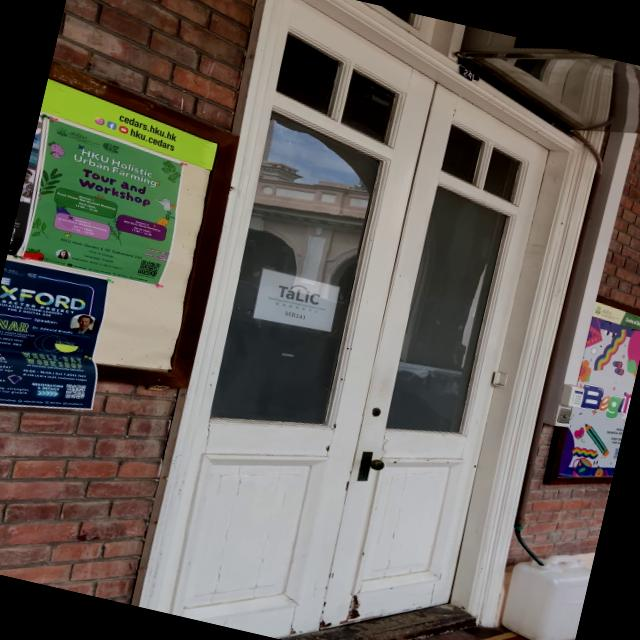room241: (453, 62, 482, 88)
